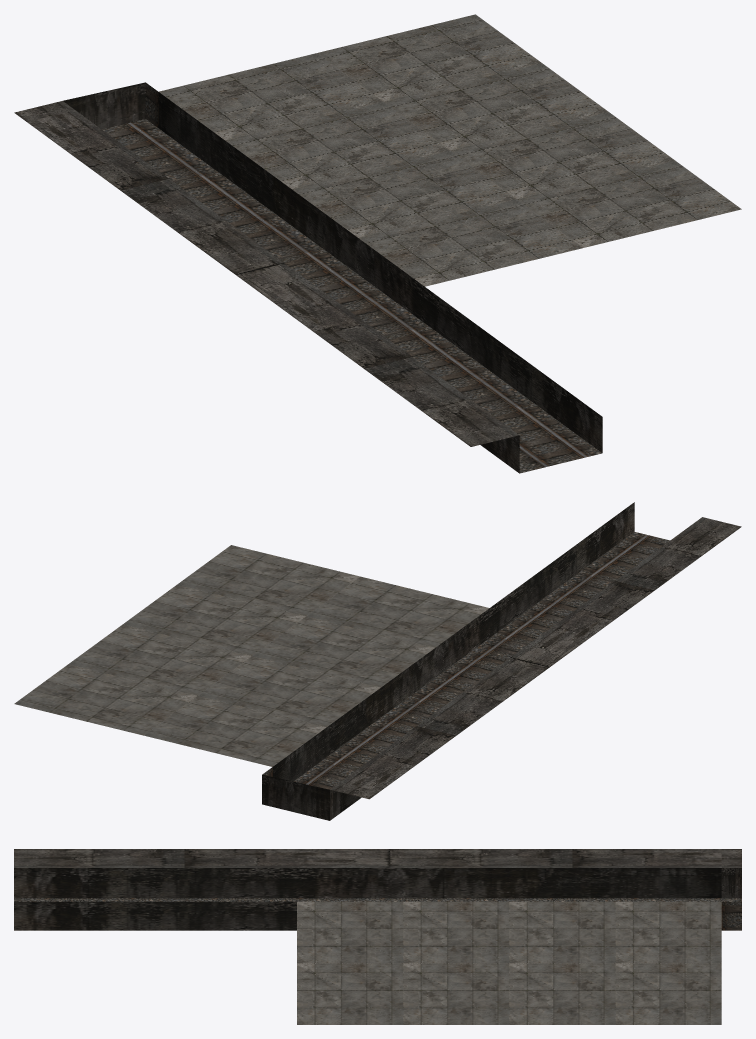
The model's file is ExitFloor.fbx.
3 renders of one model, top to bottom at view 1: azimuth 30°, elevation 25°; view 2: azimuth 150°, elevation 25°; view 3: azimuth 270°, elevation 25°, orthographic. The views are drawn at different scales.
Parts seen in each view (by area): view 1: ExitFloor; view 2: ExitFloor; view 3: ExitFloor.
Boxes of the visible parts, x1,y1,x2,y2 form: ExitFloor: (14, 14, 741, 473); ExitFloor: (14, 502, 741, 820); ExitFloor: (14, 849, 741, 1024).
Size of the model in its own units: 5.83 by 0.4763 by 10.28.
